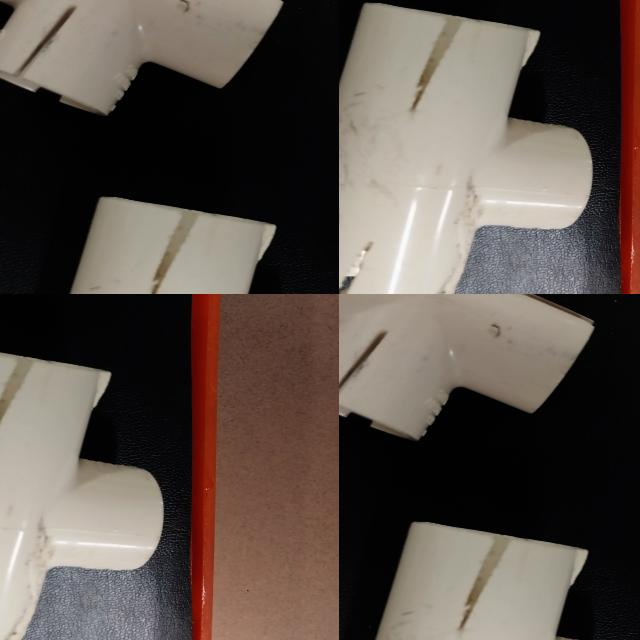Defective: (458, 537, 512, 631), (339, 332, 388, 417)
T Joint: (339, 294, 597, 444), (374, 522, 590, 640)
